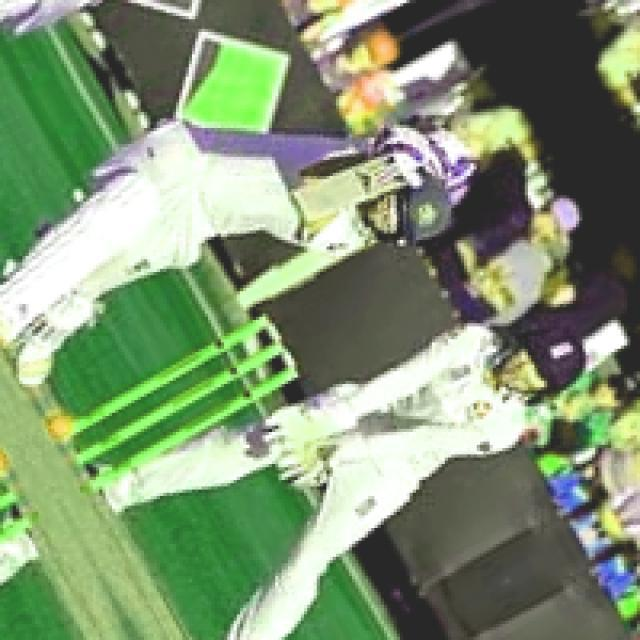bat: (283, 153, 407, 231)
toe: (289, 186, 309, 230)
